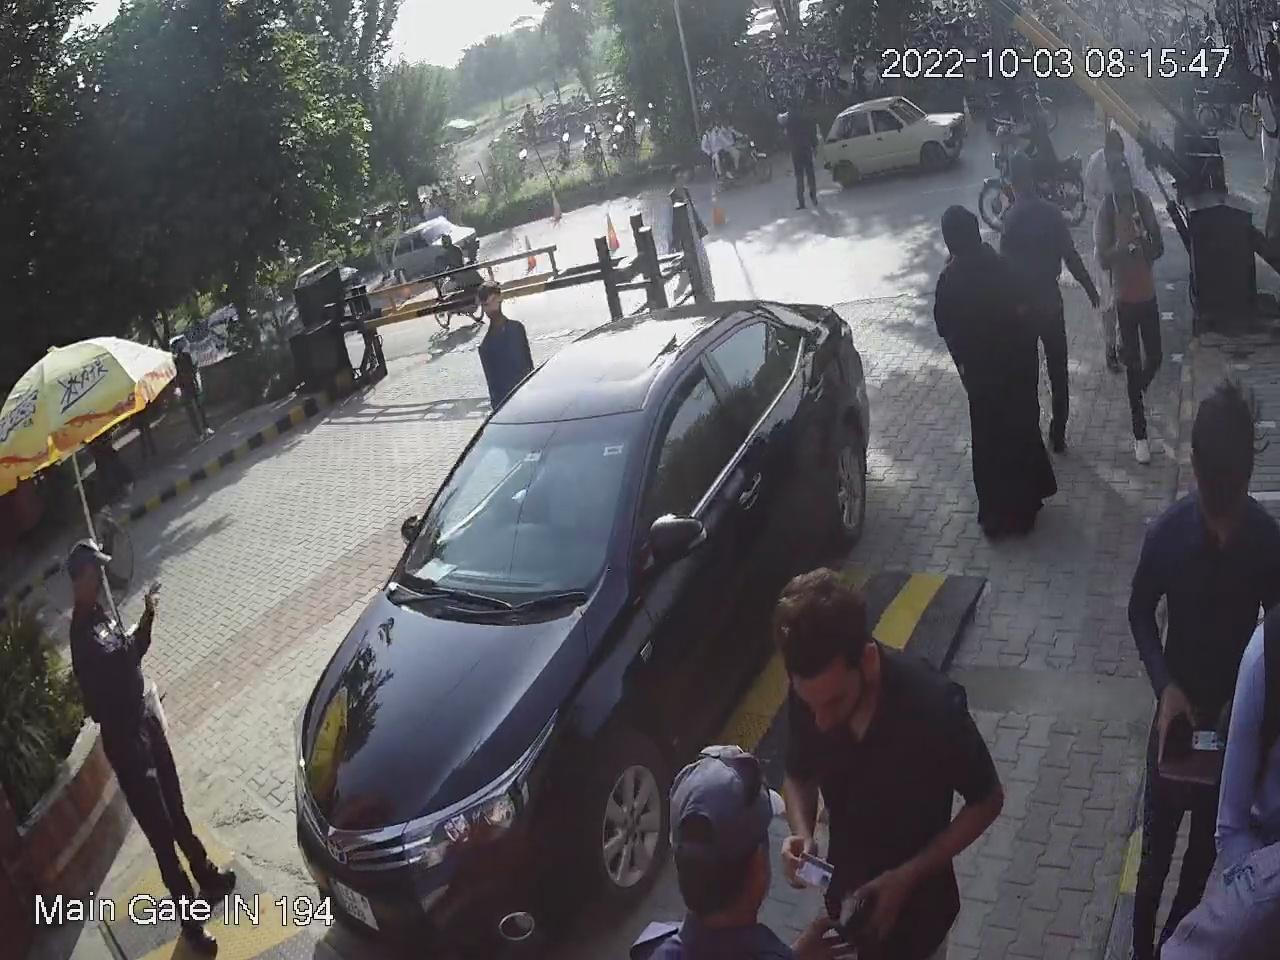windshield: (400, 397, 665, 583)
